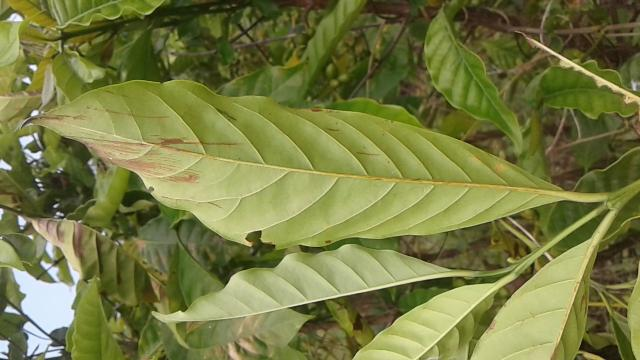rust_level_1: (14, 80, 572, 248)
